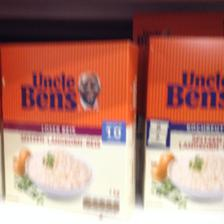Reis: (0, 39, 138, 221), (141, 34, 223, 210)
